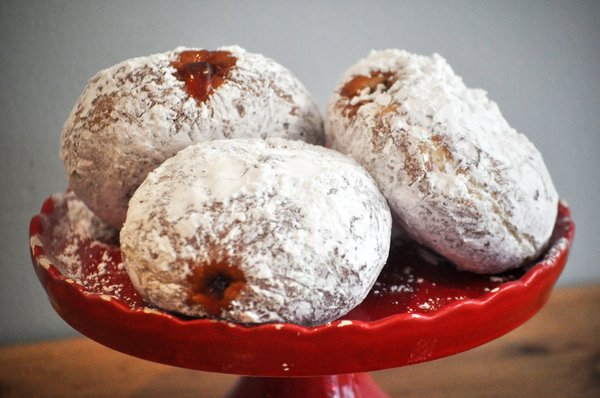salad: (324, 47, 560, 276), (122, 135, 393, 328), (58, 45, 327, 229)
